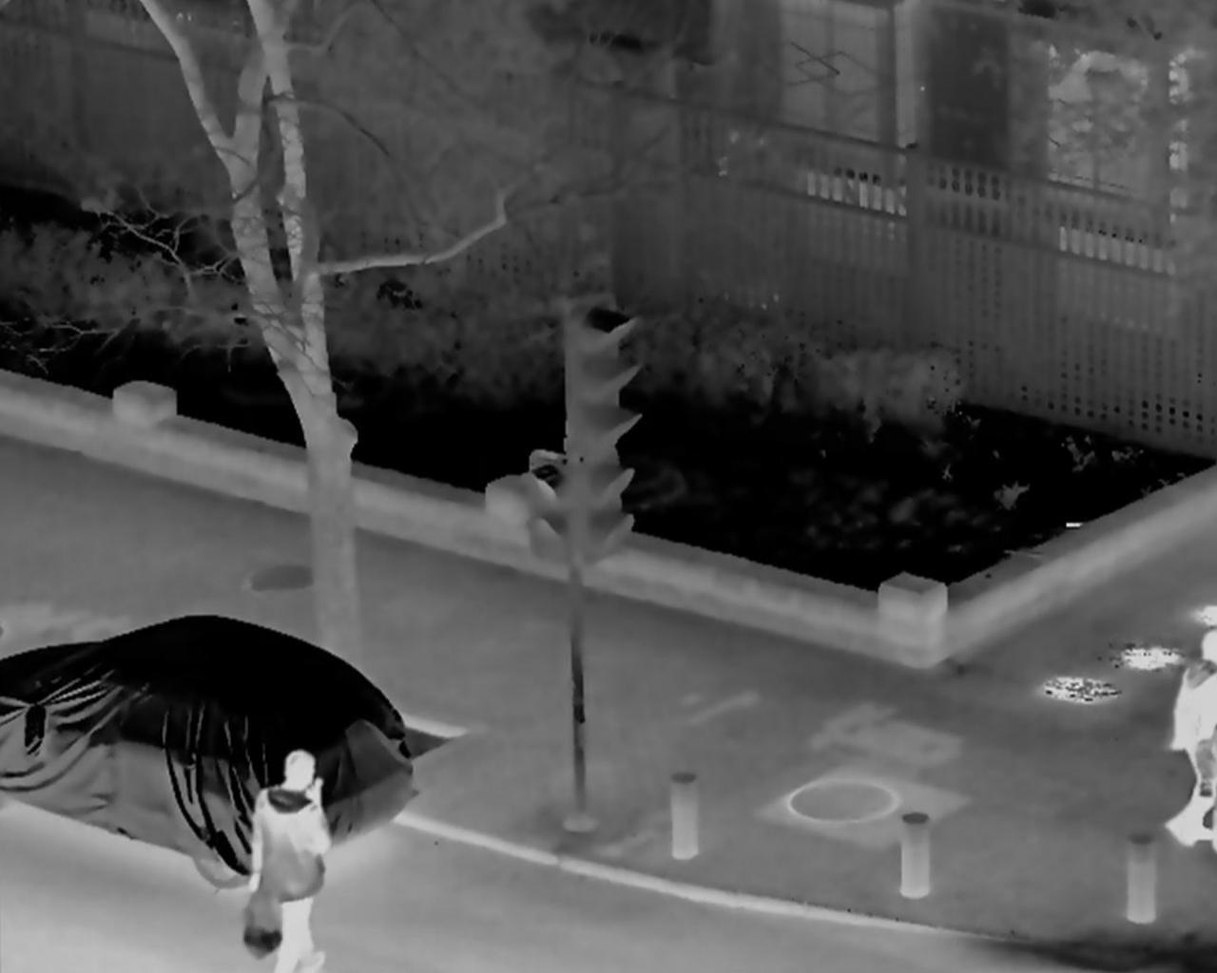person: (252, 752, 327, 973), (1170, 631, 1217, 840)
